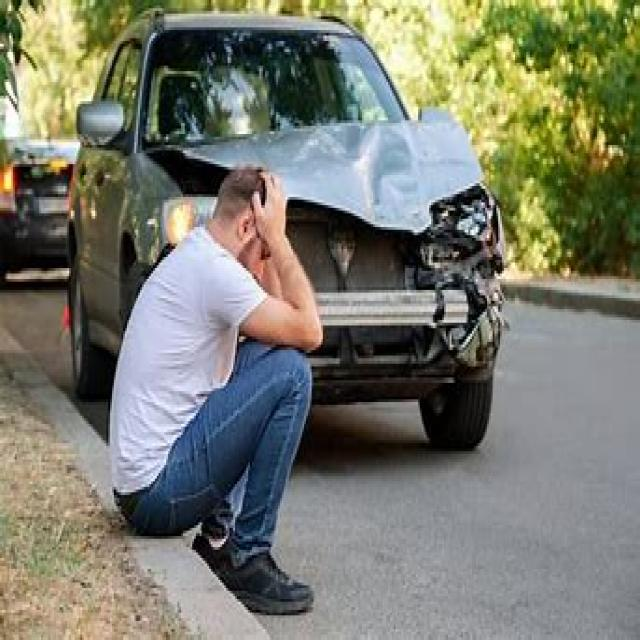Accident: (115, 72, 562, 464)
